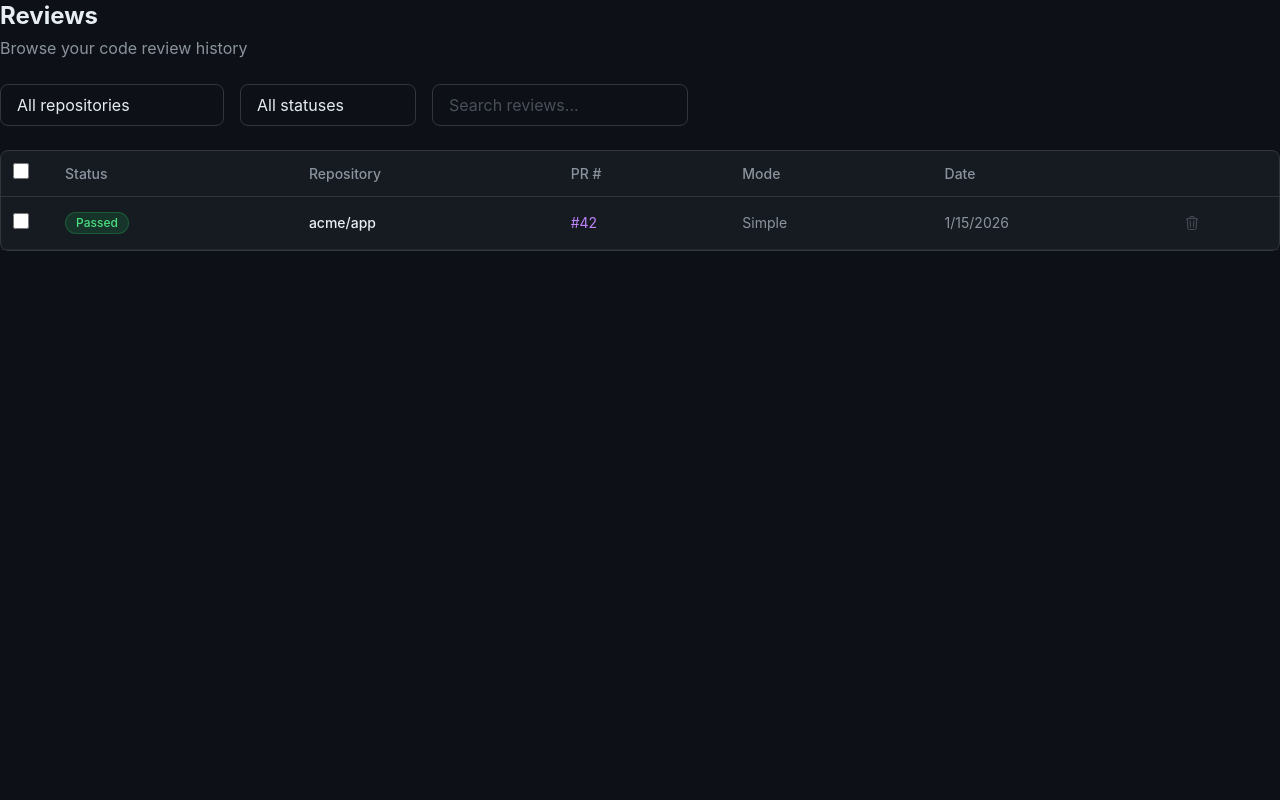
Reviews — detail modal › does not show findings section when review has zero findings
The width and height of the screenshot is (1280, 800).
Click the text "acme/app": (342, 222) [285,196,547,250]
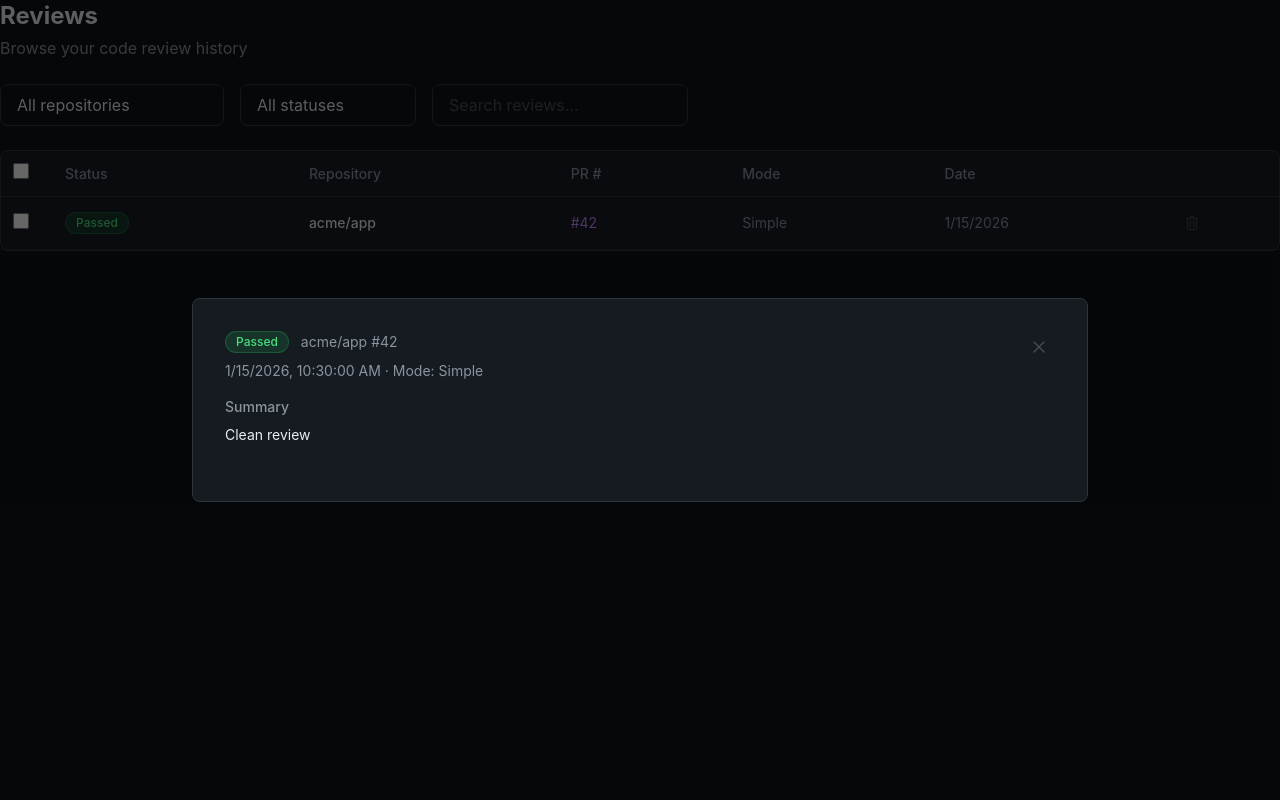
Check: the text "Clean review" is shown, box [225,426,310,443]
